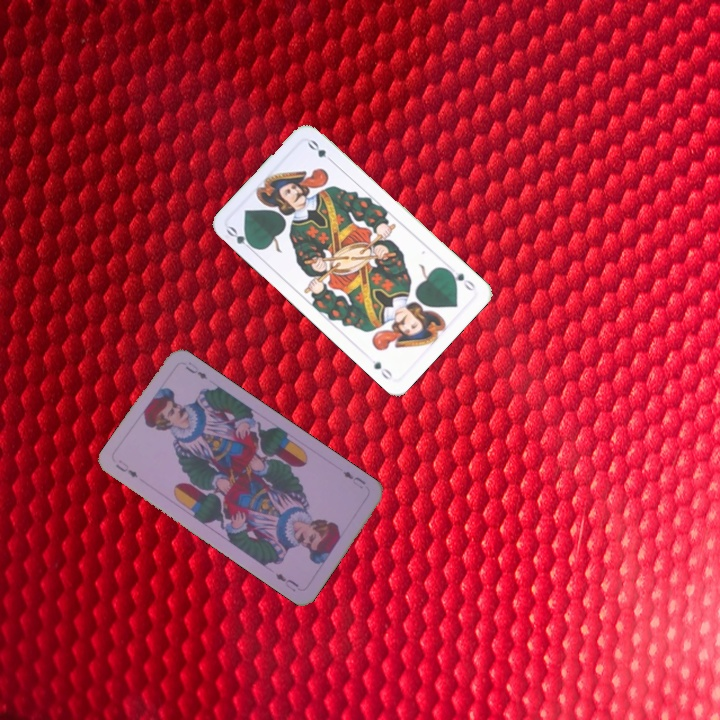EU: (111, 455, 141, 481), (339, 467, 369, 491)
GO: (222, 222, 259, 255), (443, 265, 478, 294)
